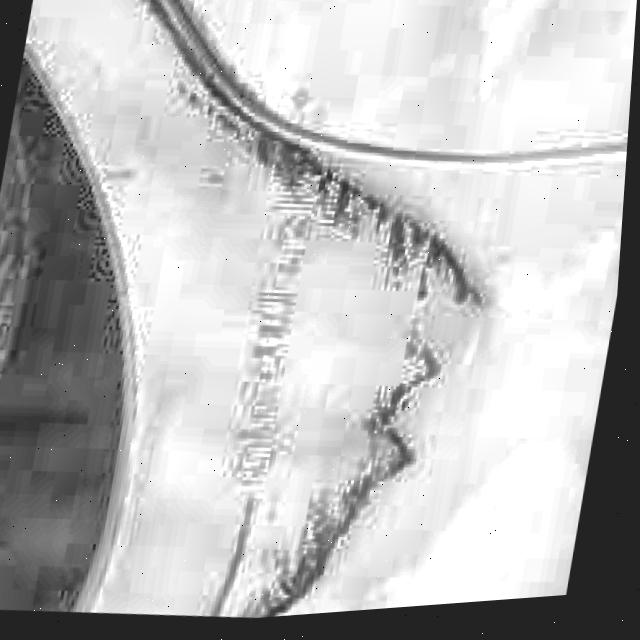door_scratch: (209, 110, 500, 377), (246, 377, 445, 619), (83, 0, 286, 155)
